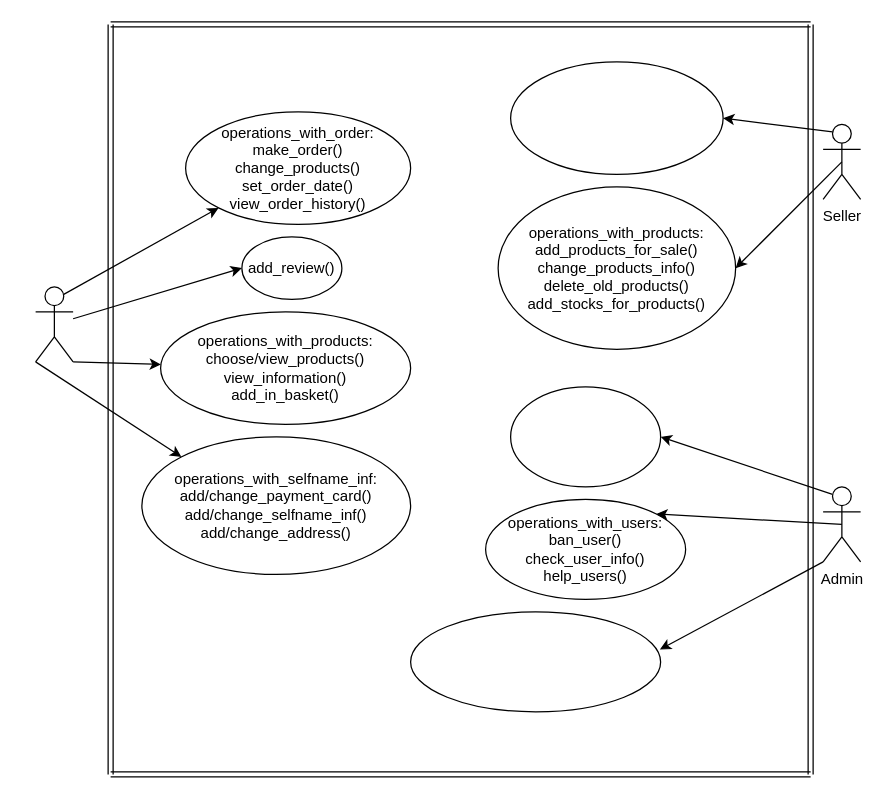
Some shapes in this 885 by 799 pixel diagram are drawn without their labels. Each missing label, with the box of its shape:
Customer: (34, 286, 73, 362)
moderate_reviews(): (509, 386, 661, 487)
operations_with_products: set_status() #orig/fake delete_products() #illegal: (409, 611, 661, 712)
operations_with_statistic: view_count_of_clients() view_reviews(): (509, 61, 723, 174)
